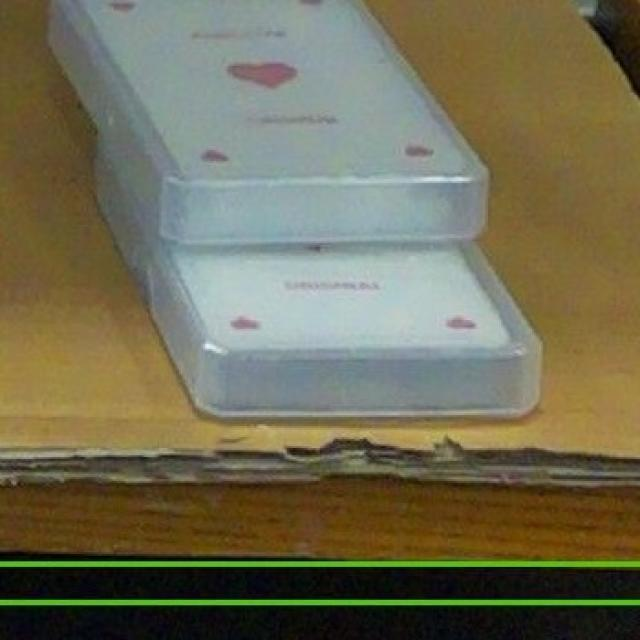Jasskarte: (51, 0, 486, 243), (146, 245, 538, 417)
